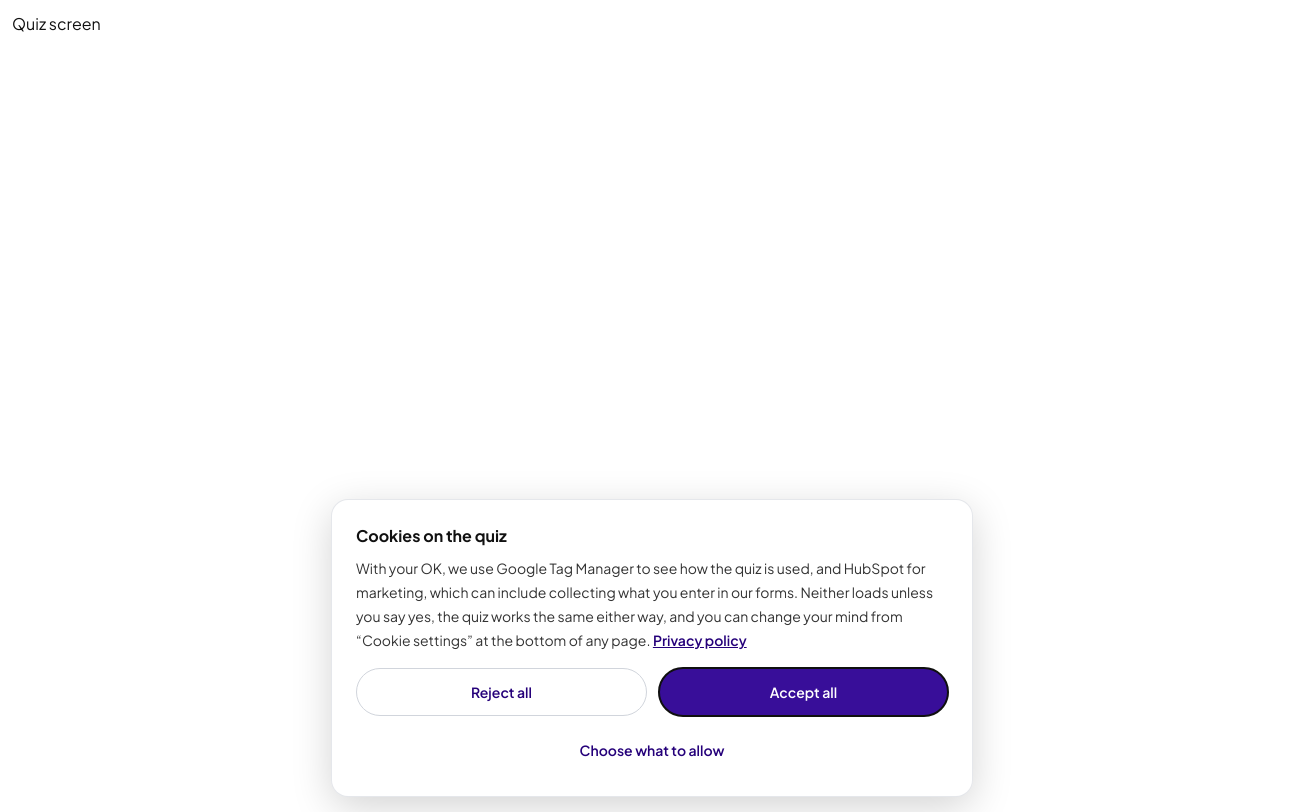
Test case: ConsentManager focus › returns focus to Cookie settings after Accept all
The width and height of the screenshot is (1292, 812).
Click the button "Accept all" at (804, 692), box 659,668 -> 948,716
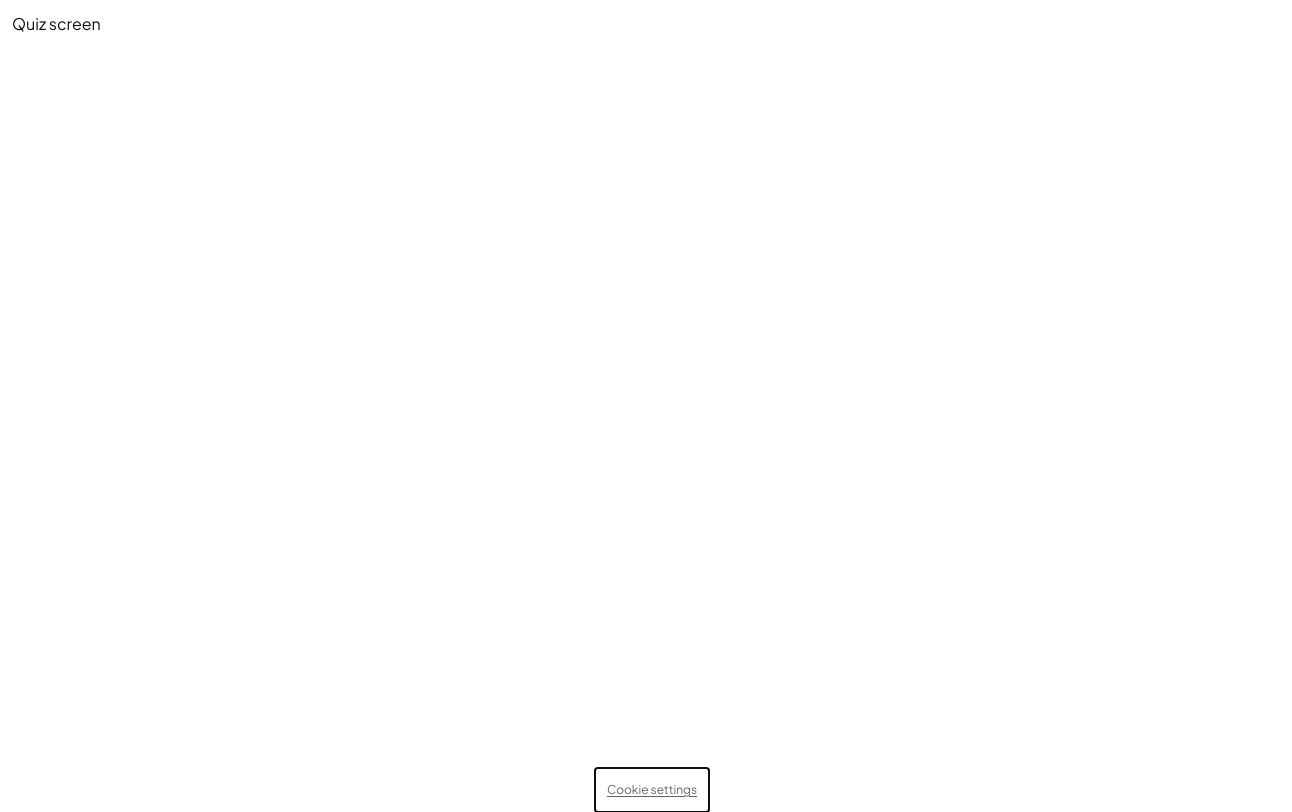
expect the heading "Cookies on the quiz" is gone: met
